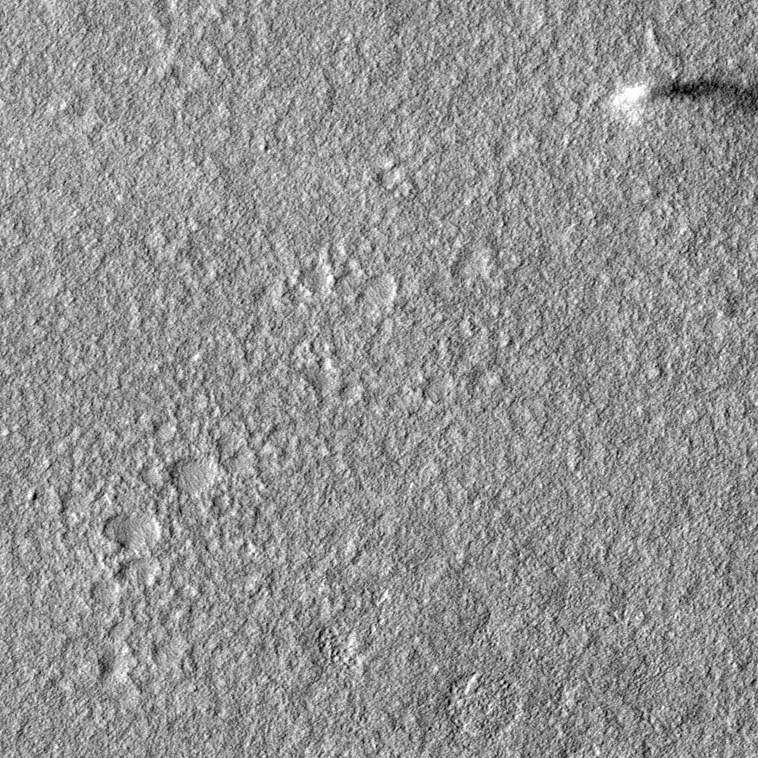dust_devil: (605, 74, 758, 129)
